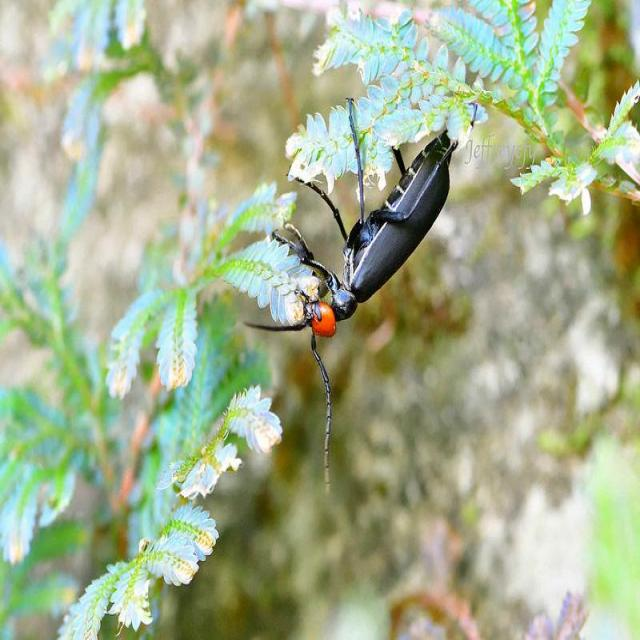BlisterBeetle-Adult-: (254, 94, 468, 345)
